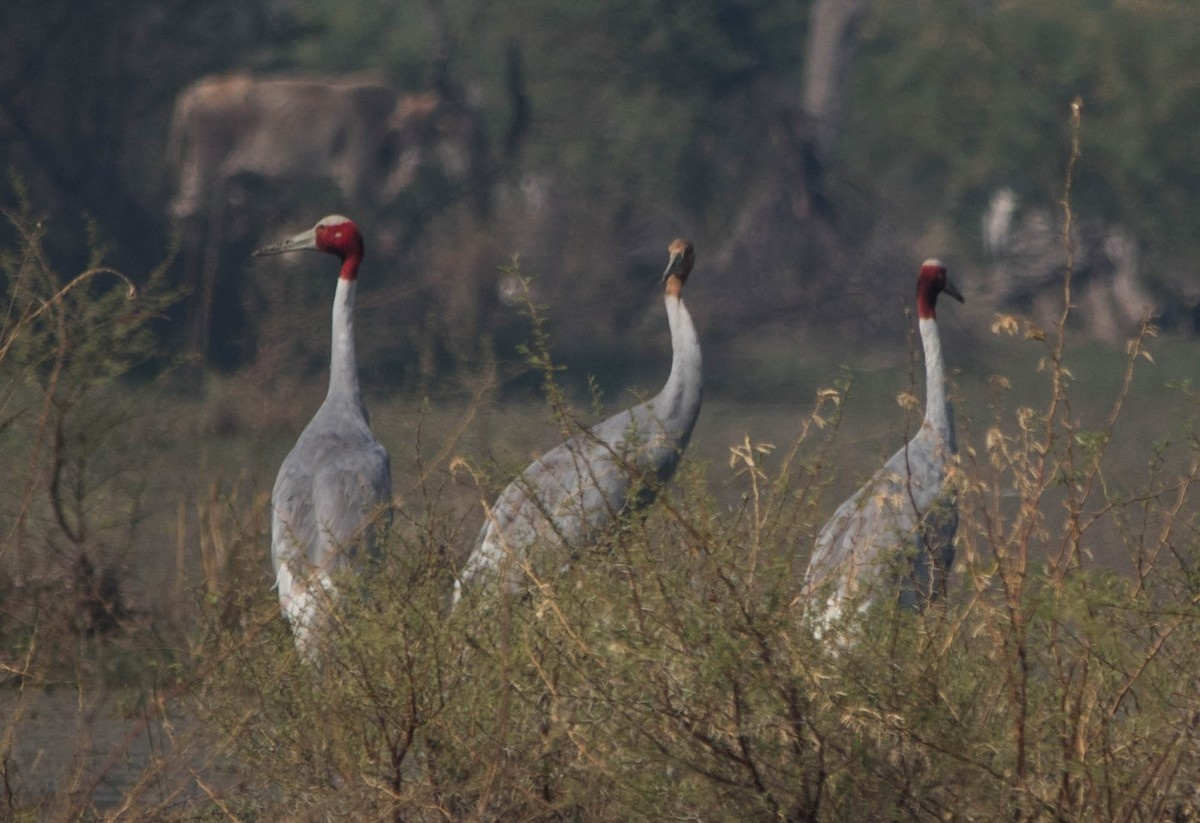crane: (473, 219, 717, 657), (249, 201, 422, 704), (812, 253, 988, 681)
